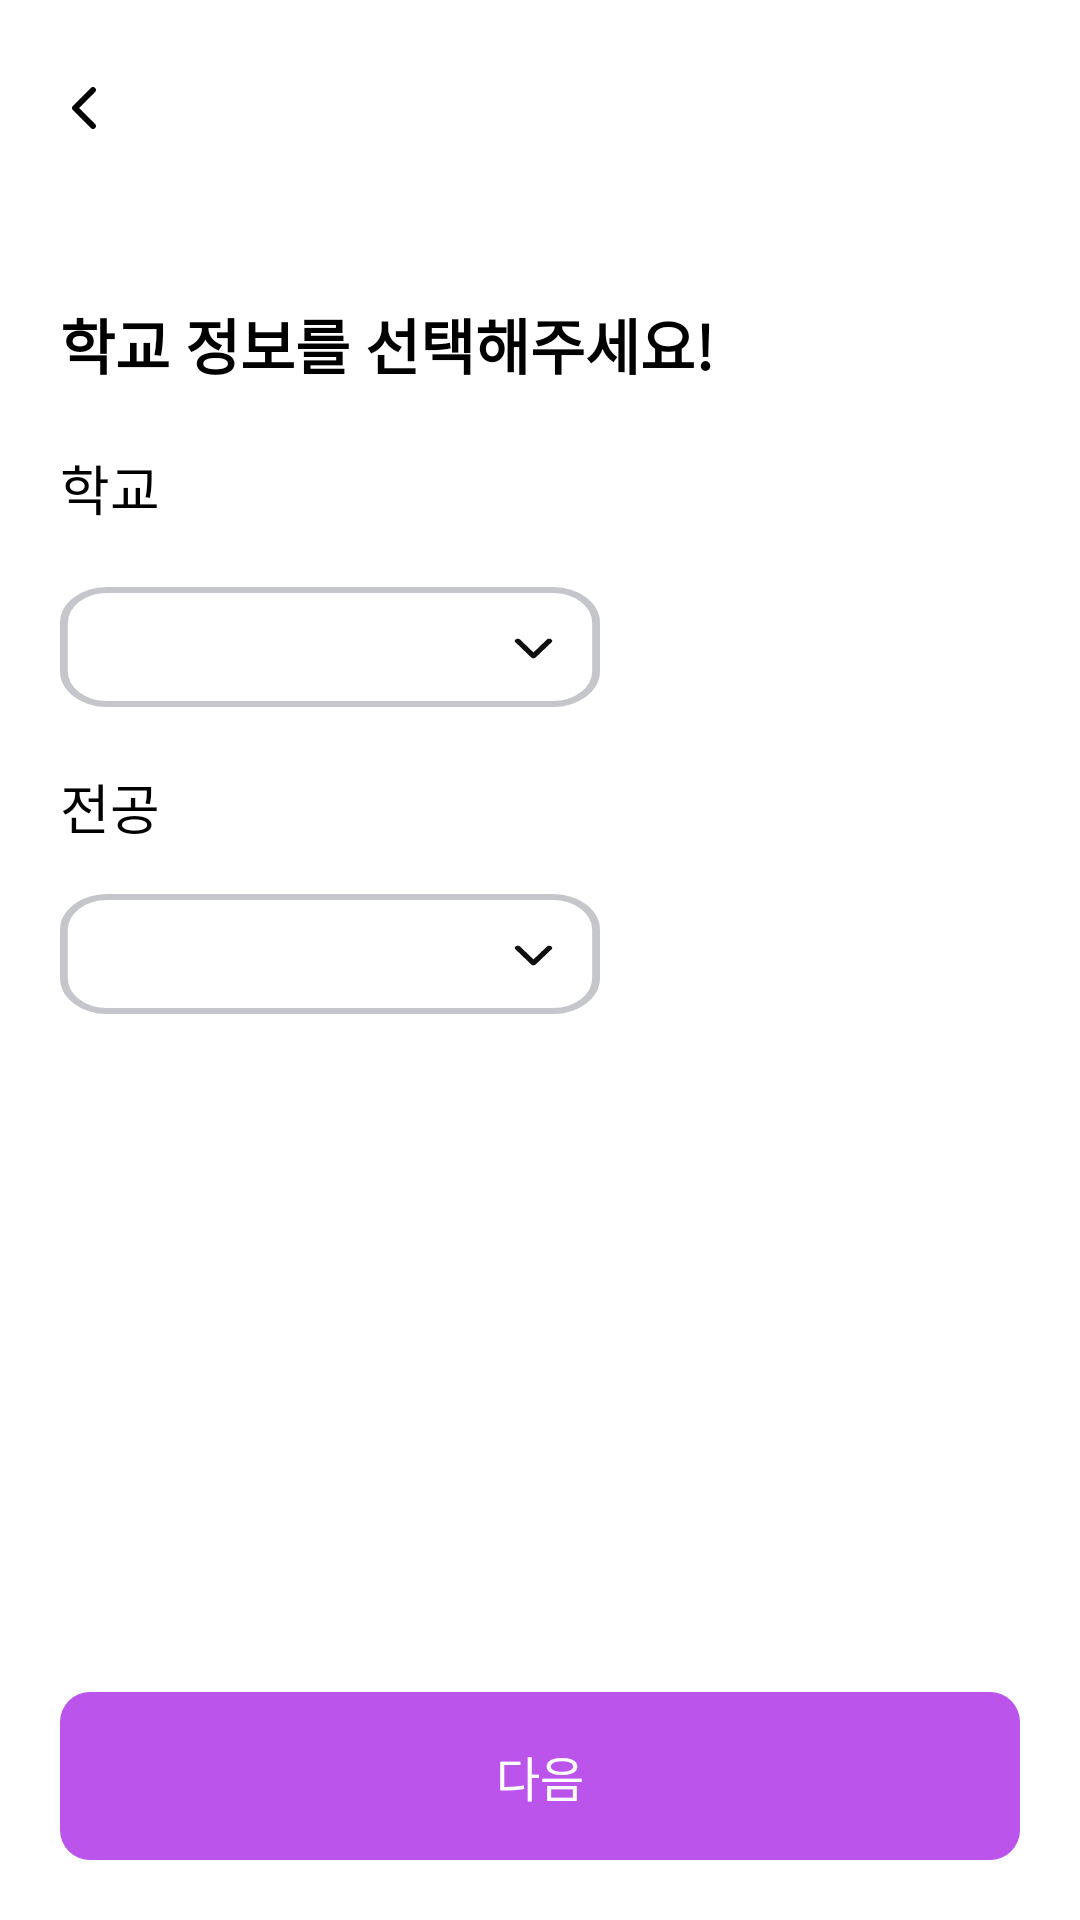

Screen size 1080px×1920px. Icon name, then its box in pixels as (x1, y1, x2, y2):
back: (72, 87, 96, 129)
